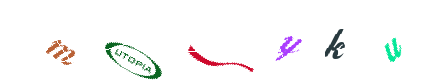2: (135, 0, 215, 80)
7: (174, 0, 254, 80)
K: (248, 0, 328, 80)
M: (104, 0, 184, 80)
U: (349, 0, 429, 80)
Y: (180, 0, 260, 80)
